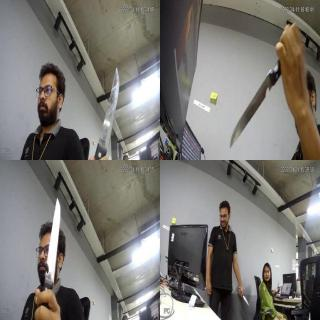knife: (229, 68, 275, 149), (39, 200, 65, 292), (97, 66, 123, 153), (240, 289, 250, 307)
